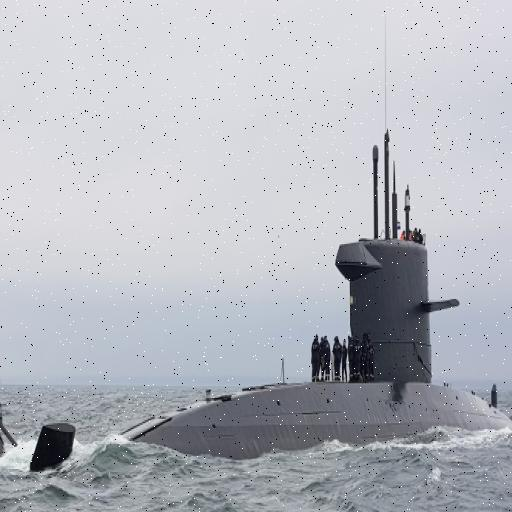submarine: (1, 127, 512, 472)
